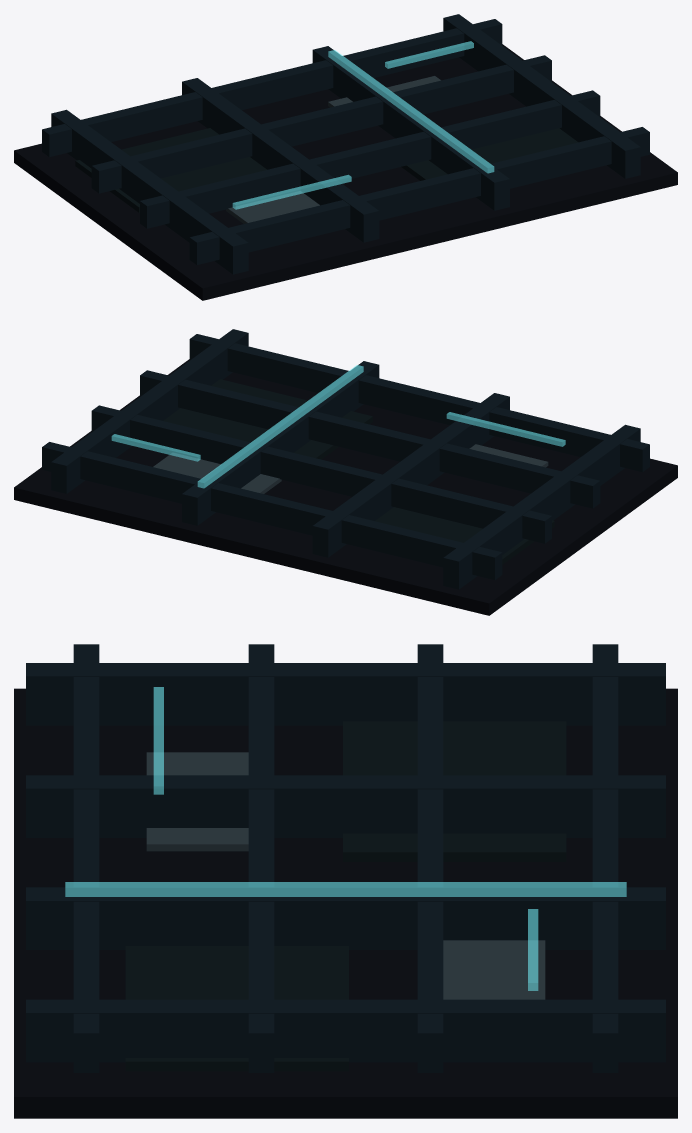
The model's file is hp_room_ceiling_panel_maintenance.glb.
The picture shows the model from 3 angles, top to bottom: view 1: azimuth 30°, elevation 25°; view 2: azimuth 150°, elevation 25°; view 3: azimuth 270°, elevation 25°; orthographic projection. The views are drawn at different scales.
Parts seen in each view (by area): view 1: maintenance_ceiling_shadow_backplate, maintenance_ceiling_cyan_spine; view 2: maintenance_ceiling_shadow_backplate, maintenance_ceiling_cyan_spine; view 3: maintenance_ceiling_shadow_backplate, maintenance_ceiling_cyan_spine.
Part boxes in pixels (left/top/right/bottom): maintenance_ceiling_shadow_backplate: left=14, top=14, right=677, bottom=300; maintenance_ceiling_cyan_spine: left=232, top=41, right=494, bottom=209; maintenance_ceiling_shadow_backplate: left=14, top=329, right=677, bottom=615; maintenance_ceiling_cyan_spine: left=111, top=365, right=565, bottom=488; maintenance_ceiling_shadow_backplate: left=14, top=644, right=677, bottom=1118; maintenance_ceiling_cyan_spine: left=65, top=687, right=626, bottom=990.
Size of the model in its own units: 3.2 by 0.315 by 2.2.
Materials: 2 (2 with a texture image).
